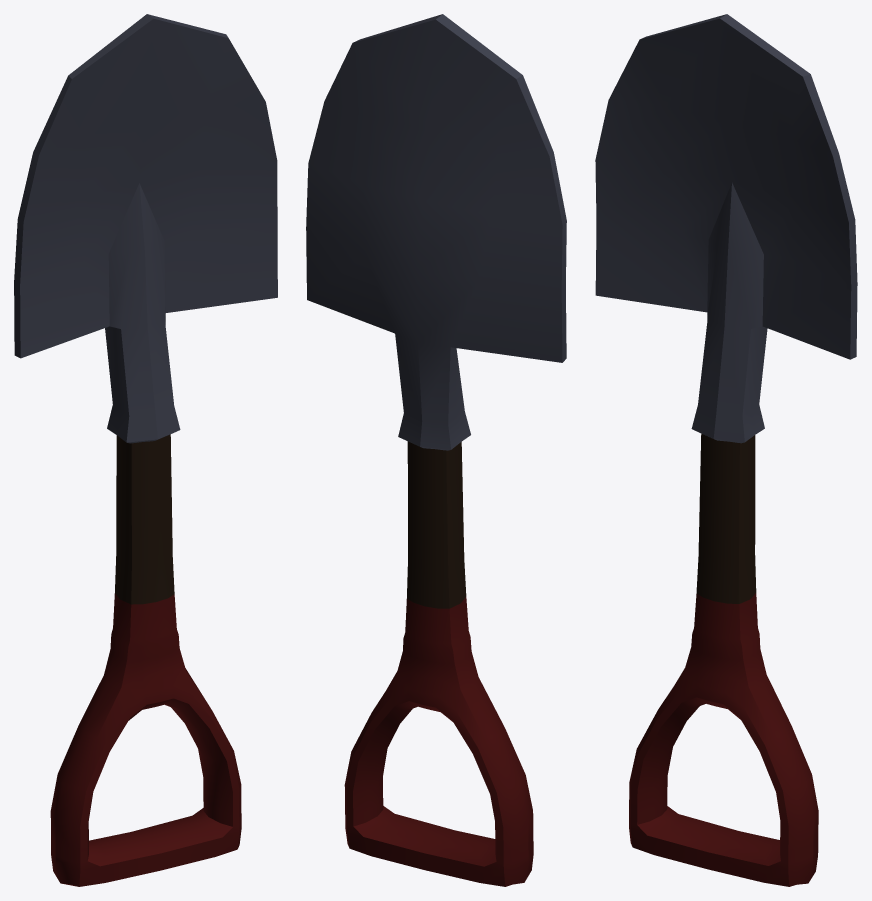
The model's file is Shovel.obj.
The picture shows the model from 3 angles, left to right: view 1: azimuth 30°, elevation 25°; view 2: azimuth 150°, elevation 25°; view 3: azimuth 330°, elevation 25°; orthographic projection.
Visible parts, largest first — view 1: Shovel_Cylinder.025; view 2: Shovel_Cylinder.025; view 3: Shovel_Cylinder.025.
Part boxes in pixels (box(x1,y1,x2,y2)): Shovel_Cylinder.025: box(14, 14, 277, 886); Shovel_Cylinder.025: box(306, 14, 566, 886); Shovel_Cylinder.025: box(595, 14, 857, 886).
Size of the model in its own units: 0.3519 by 1.11 by 0.0858.
